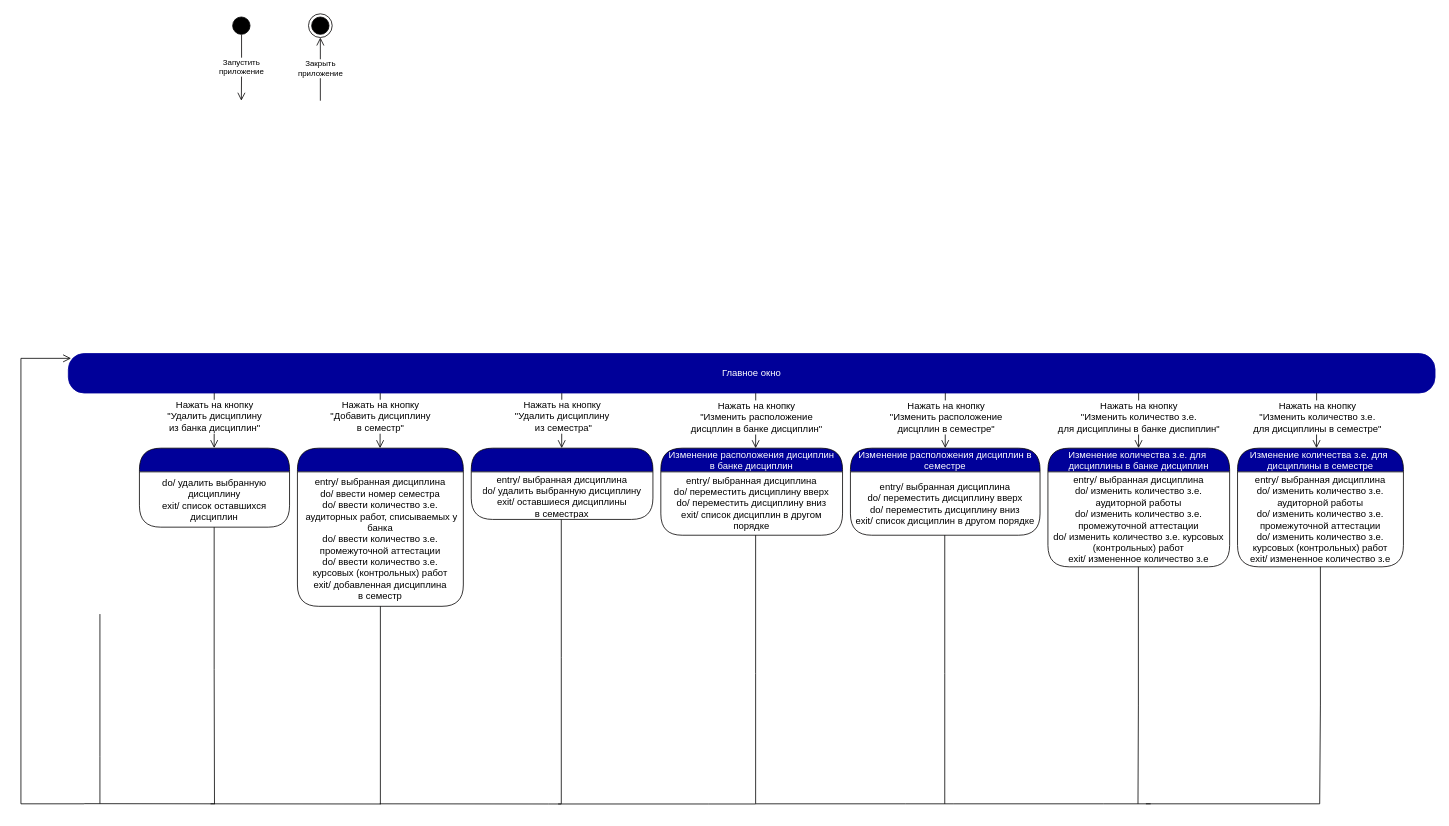
The diagram is 1449 pixels wide and 826 high, and some of its shapes have lost their labels. The box of each missing label's shape, as (x1, y1, x2, y2) in pixels:
Добавление дисциплины в семестр: (297, 447, 463, 606)
Удаление дисциплины из банка: (139, 447, 290, 527)
Удаление дисциплины из семестра: (470, 447, 653, 519)
